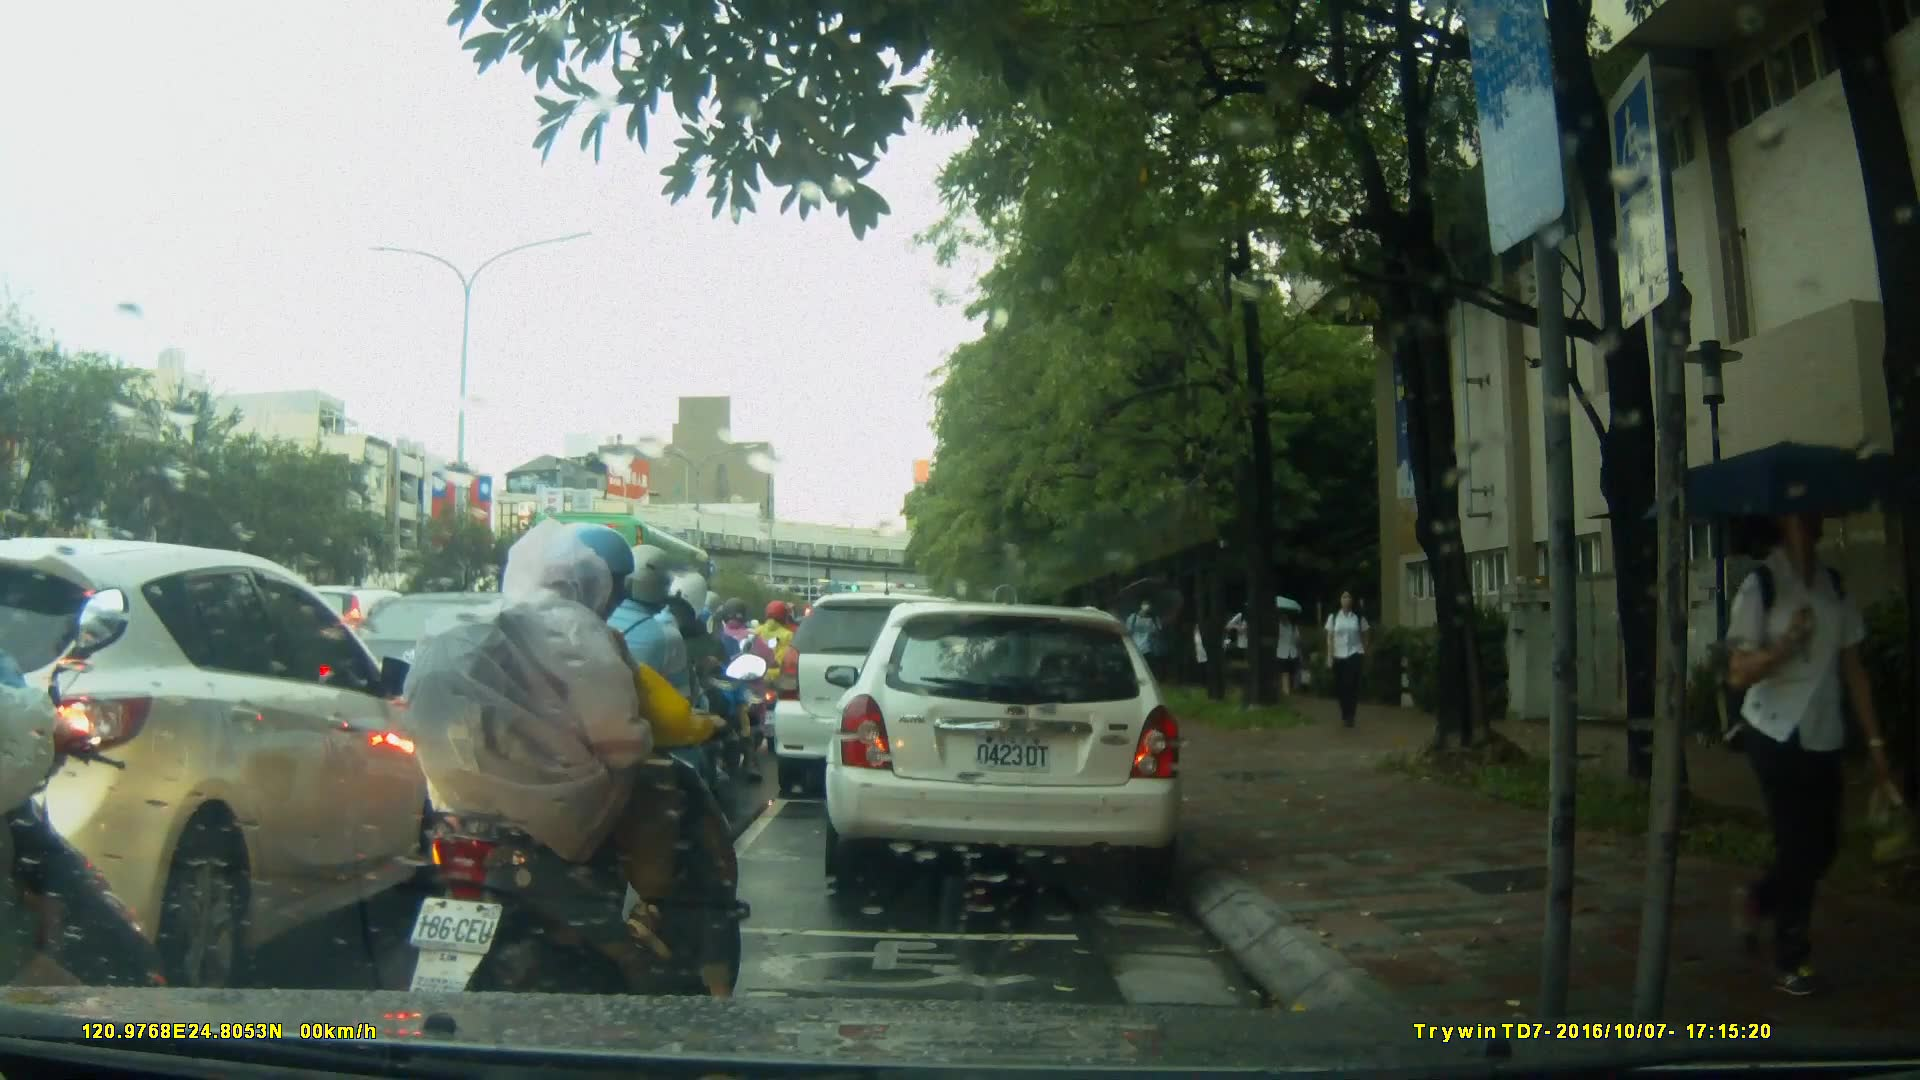pedestrian: (1714, 479, 1863, 998), (1315, 587, 1372, 730), (1124, 590, 1168, 712)
rider: (393, 514, 753, 1073), (1, 586, 179, 1080), (541, 546, 732, 887), (608, 570, 744, 864), (707, 601, 779, 765), (754, 603, 813, 744)
vehicle: (1, 536, 442, 988), (822, 604, 1186, 881), (774, 595, 995, 802), (546, 516, 737, 667)
